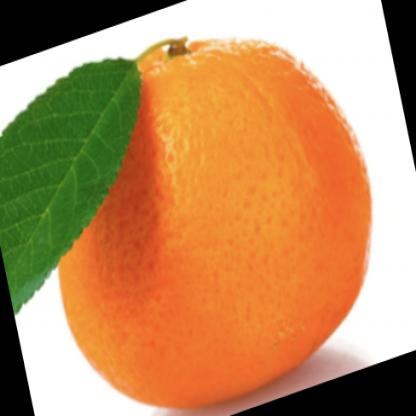orange: (9, 37, 373, 410)
